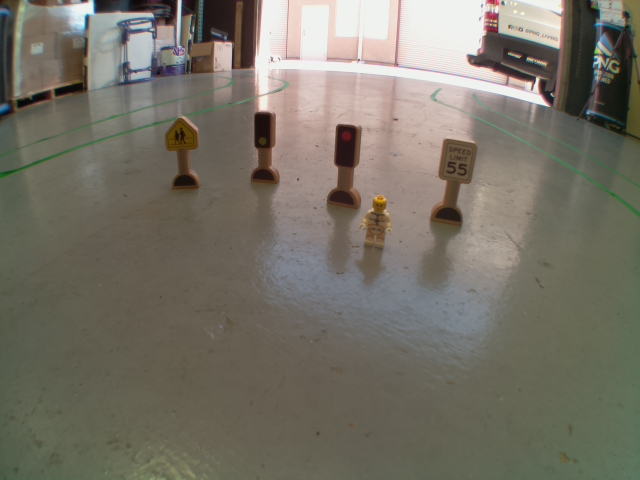Green Traffic Light: (253, 110, 275, 150)
Red Traffic Light: (332, 120, 359, 168)
Speed Limit 55: (438, 130, 476, 187)
YIELD: (159, 115, 198, 152)
person: (358, 195, 393, 250)
